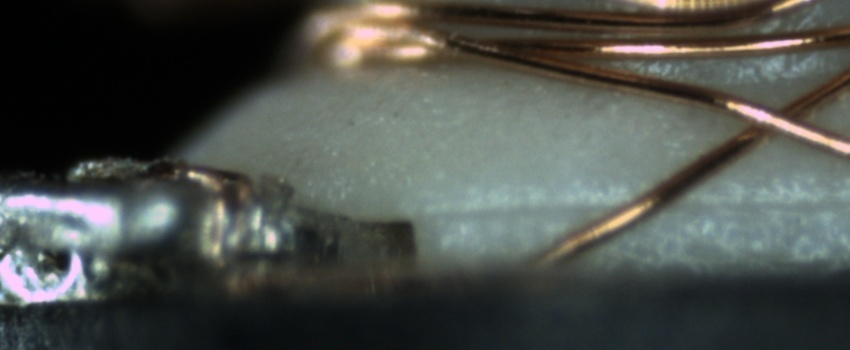CL: (725, 87, 829, 149)
DL: (440, 174, 849, 240)
TE: (162, 162, 257, 253)
